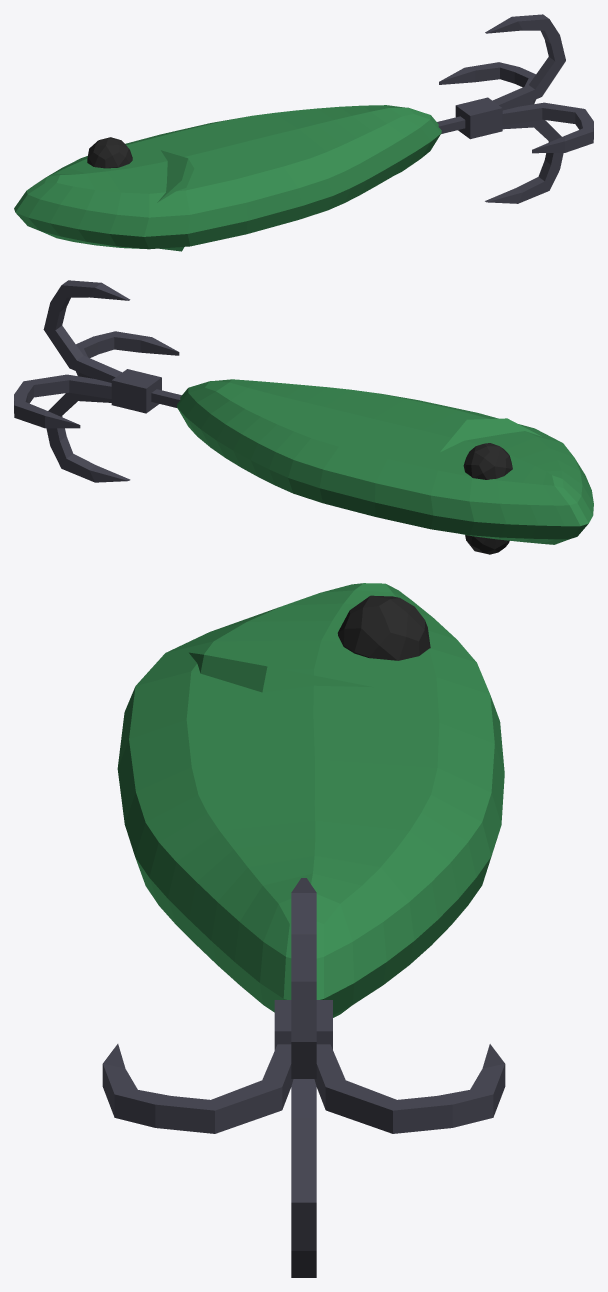
Rendered from lure.glb.
3 views of the same model, one above another, from view 1: azimuth 30°, elevation 25°; view 2: azimuth 150°, elevation 25°; view 3: azimuth 270°, elevation 25° (orthographic). The views are drawn at different scales.
Parts seen in each view (by area): view 1: lure; view 2: lure; view 3: lure.
Part boxes in pixels (x1,y1,x2,y2): lure: (14,14,593,251); lure: (14,280,593,554); lure: (102,583,505,1277).
Size of the model in its own units: 0.06 by 0.0198 by 0.0198.
